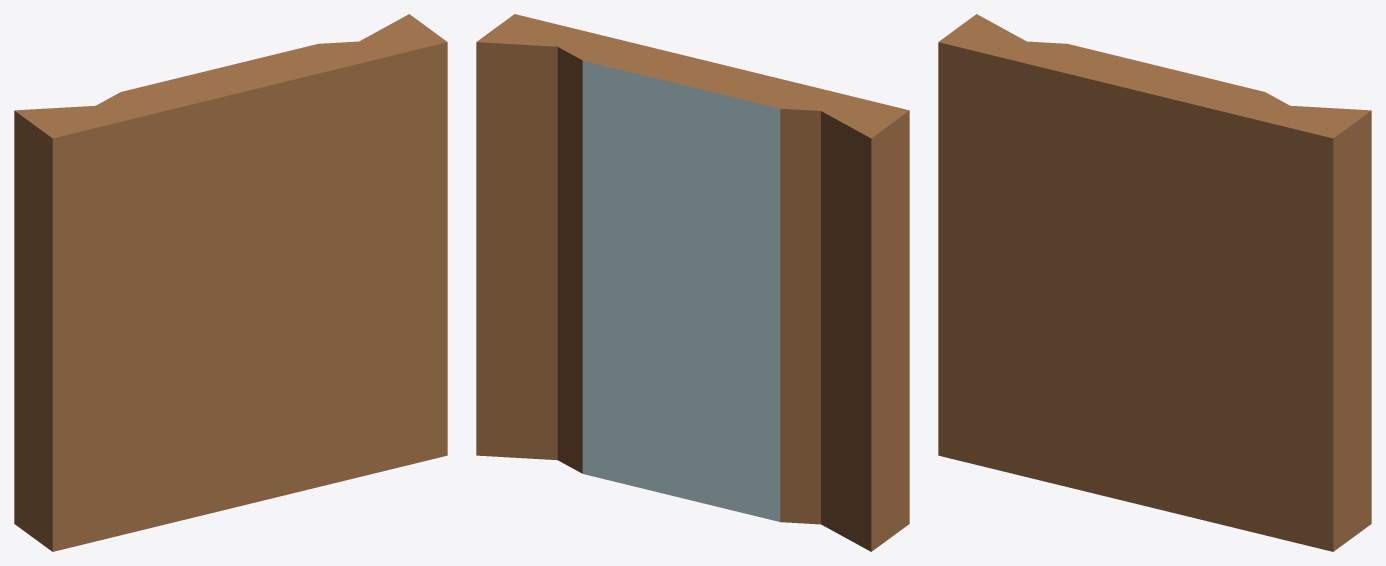
The model's file is cliff_waterfall_rock.glb.
3 renders of one model, left to right at view 1: azimuth 30°, elevation 25°; view 2: azimuth 150°, elevation 25°; view 3: azimuth 330°, elevation 25°, orthographic.
Parts seen in each view (by area): view 1: cliff_waterfall_rock; view 2: cliff_waterfall_rock; view 3: cliff_waterfall_rock.
Part boxes in pixels (<box>): cliff_waterfall_rock: <box>14,14,447,551</box>; cliff_waterfall_rock: <box>476,14,909,551</box>; cliff_waterfall_rock: <box>938,14,1371,551</box>.
Size of the model in its own units: 1 by 1 by 0.1685.
